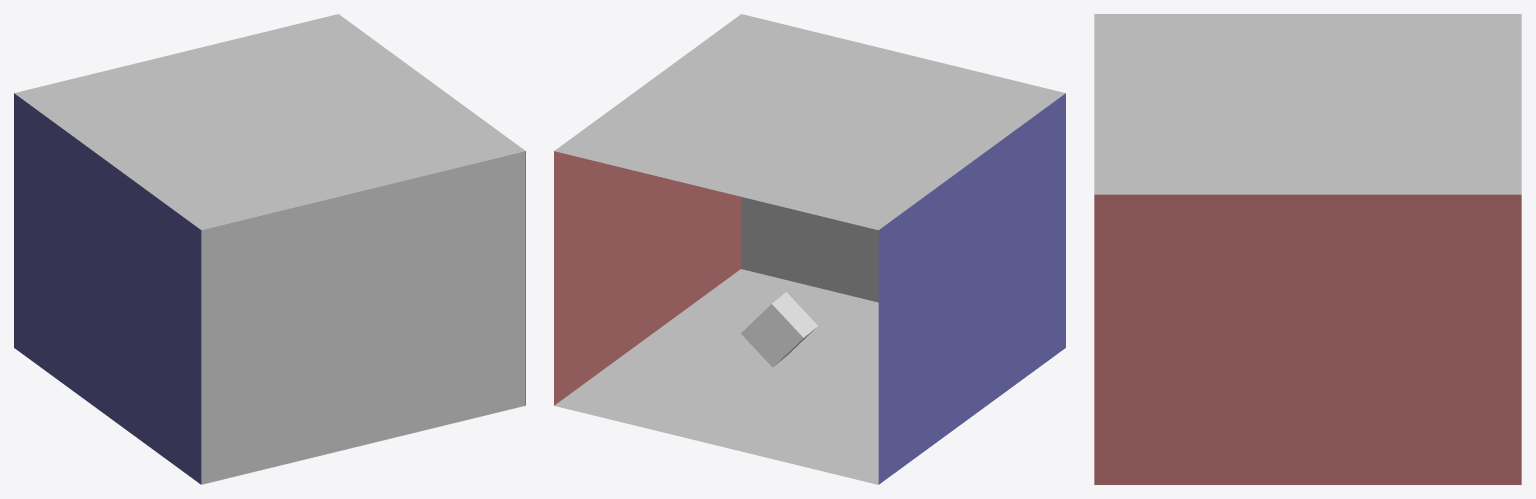
Rendered from threespot.dae.
3 views of the same model, side by side, from view 1: azimuth 30°, elevation 25°; view 2: azimuth 150°, elevation 25°; view 3: azimuth 270°, elevation 25° (orthographic). The views are drawn at different scales.
Visible parts, largest first — view 1: backWall, ceiling, rightWall; view 2: ceiling, rightWall, floor, leftWall, backWall, Cube; view 3: leftWall, ceiling.
Part boxes in pixels (x1,y1,x2,y2): backWall: (201, 151, 525, 484); ceiling: (14, 14, 525, 230); rightWall: (14, 93, 201, 484); ceiling: (554, 14, 1065, 230); rightWall: (878, 93, 1065, 484); floor: (554, 269, 878, 484); leftWall: (554, 151, 740, 405); backWall: (741, 197, 878, 302); Cube: (741, 292, 817, 367); leftWall: (1094, 194, 1521, 484); ceiling: (1094, 14, 1521, 194).
Size of the model in its own units: 2 by 2 by 1.5.
